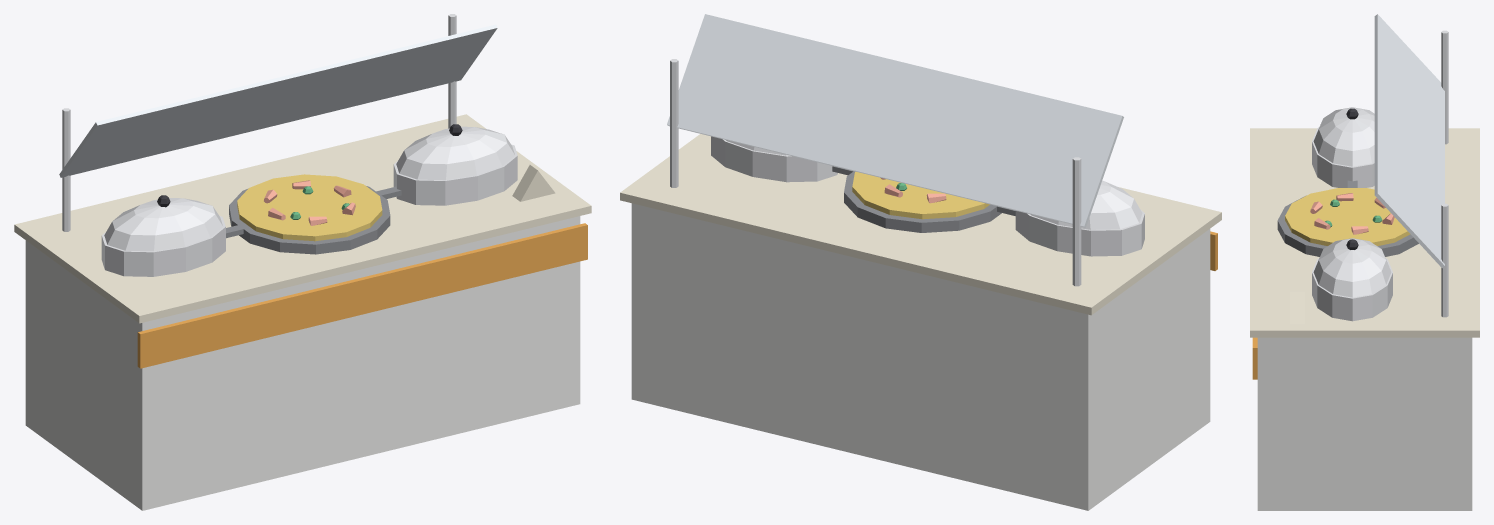
Rendered from HJ_MesaBufe.fbx.
3 views of the same model, side by side, from view 1: azimuth 30°, elevation 25°; view 2: azimuth 150°, elevation 25°; view 3: azimuth 270°, elevation 25° (orthographic). The views are drawn at different scales.
Visible parts, largest first — view 1: HJ_MesaBufe; view 2: HJ_MesaBufe; view 3: HJ_MesaBufe.
Part boxes in pixels (<box>): HJ_MesaBufe: <box>14,14,591,510</box>; HJ_MesaBufe: <box>620,14,1221,510</box>; HJ_MesaBufe: <box>1250,14,1479,510</box>.
Bounding box in the file's own units: 1.92 × 1.37 × 0.92.
